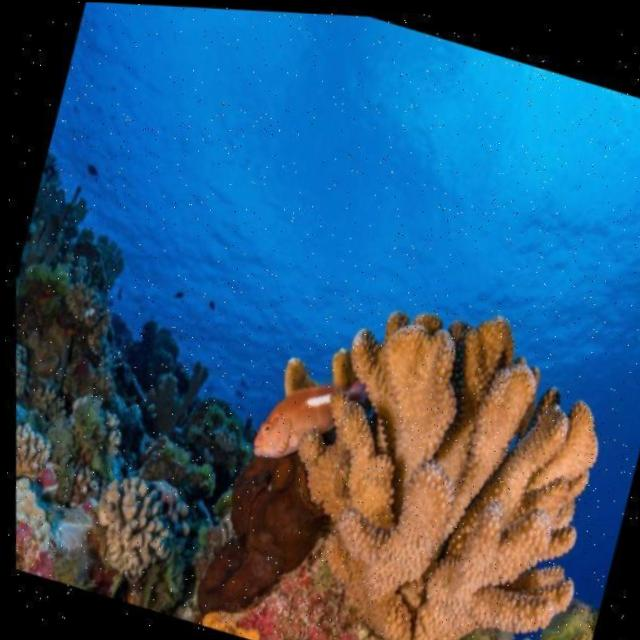Healthy Coral: (238, 248, 640, 640), (3, 233, 276, 614)
